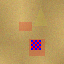structure: (33, 6, 47, 25)
vehicle: (18, 21, 31, 30)
